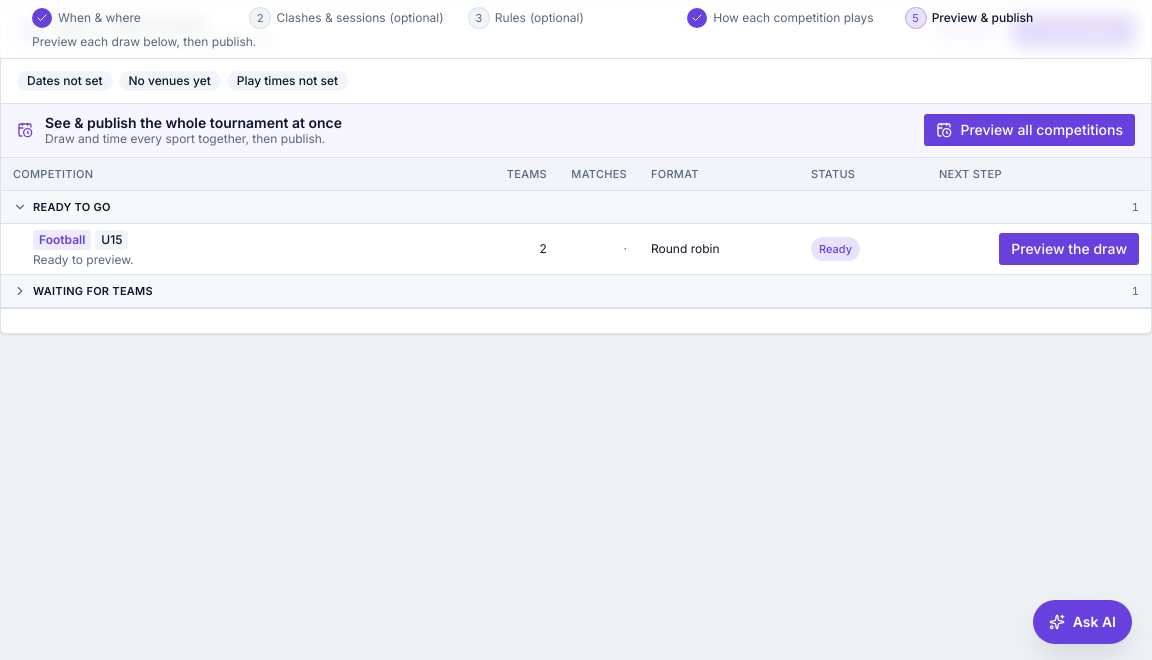
Test case: FixtureSetupHub › opening Step 1 from the stepper un-pins the page (refresh = next stage)
The image size is (1152, 660).
Expected: the element with test id "global-setup-strip" is shown, [1,4,1151,102]
Click the button with test id "journey-step-1" at (86,18), box [32,8,141,28]
(page scrolled)
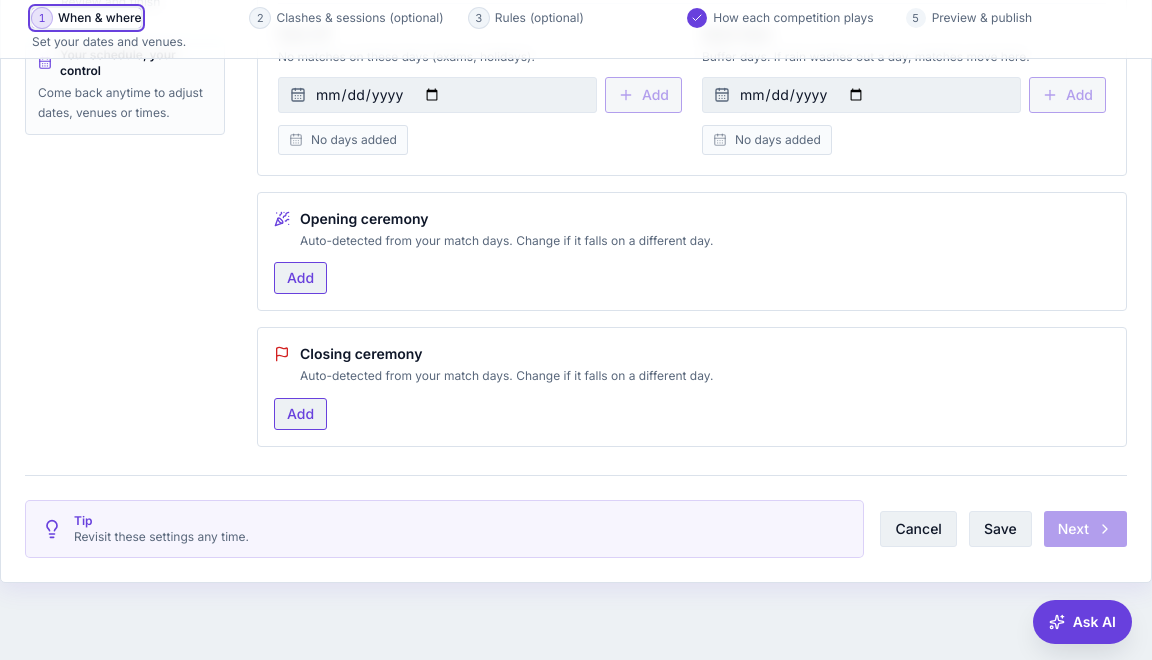
Click the button "Cancel" at (919,528), box [880,510,957,546]
(page scrolled)
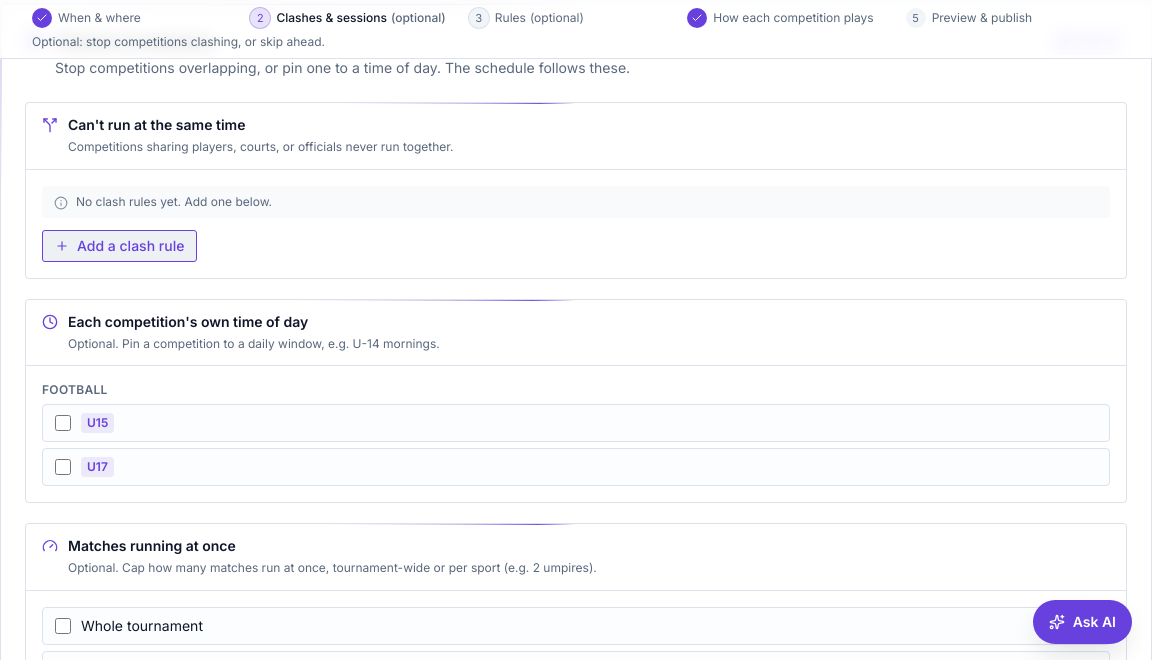
Now the button with test id "add-clash-rule" is shown, box [42,230,197,262]
